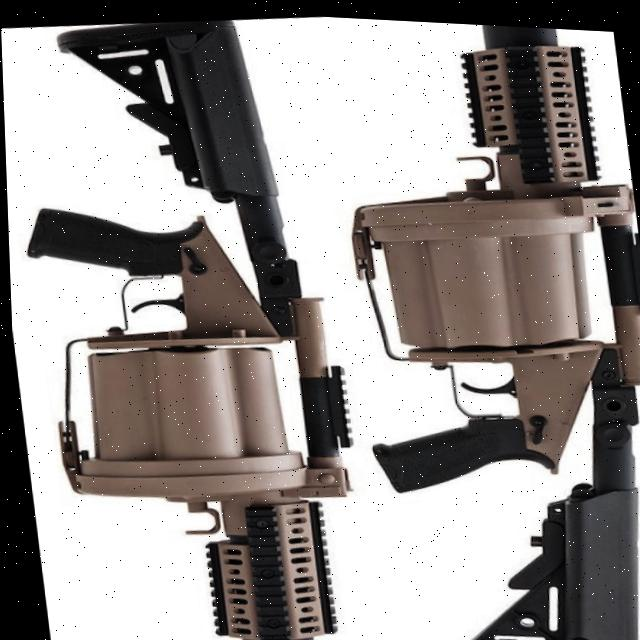rocket: (0, 0, 381, 640), (316, 13, 640, 640), (503, 261, 510, 289)
